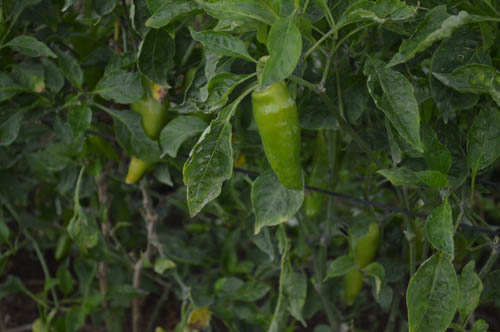ChiliPepper: (251, 82, 306, 189), (125, 92, 163, 180), (342, 221, 372, 295), (305, 127, 330, 213)
